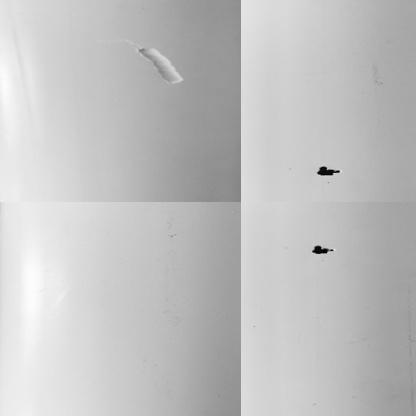kongdong: (315, 163, 340, 179), (310, 244, 335, 257)
sunshang: (134, 42, 186, 85)
